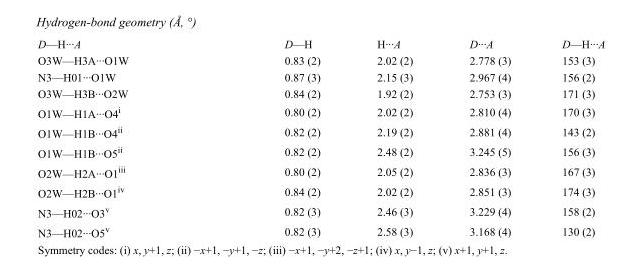table: (37, 37, 604, 238)
table column: (37, 37, 205, 238), (205, 37, 347, 238), (440, 37, 535, 238), (347, 37, 440, 238), (535, 37, 604, 238)
table row: (37, 101, 604, 121), (37, 121, 604, 141), (37, 141, 604, 161), (37, 161, 604, 181), (37, 181, 604, 201), (37, 201, 604, 221), (37, 51, 604, 68), (37, 84, 604, 101), (37, 221, 604, 238), (37, 68, 604, 84), (37, 37, 604, 51)
